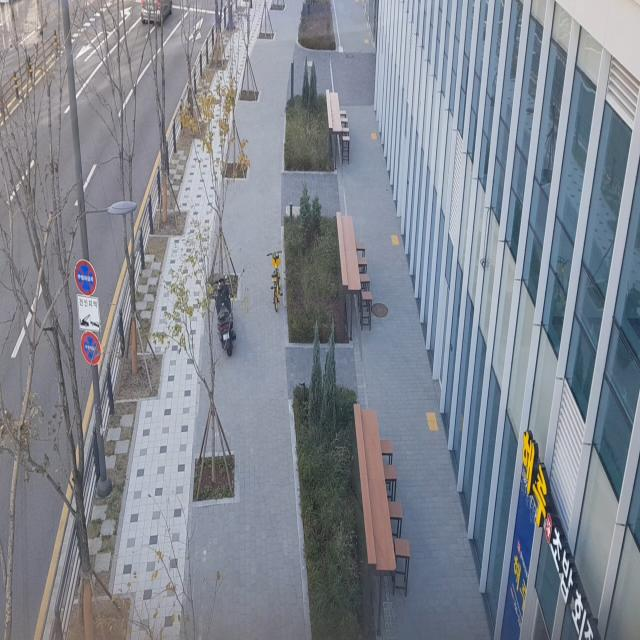Car: (136, 0, 174, 33)
